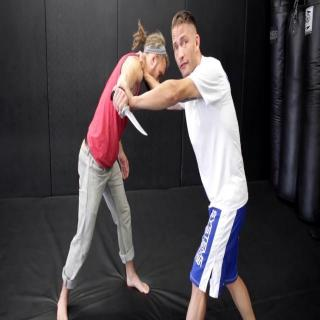knife: (107, 87, 151, 140)
